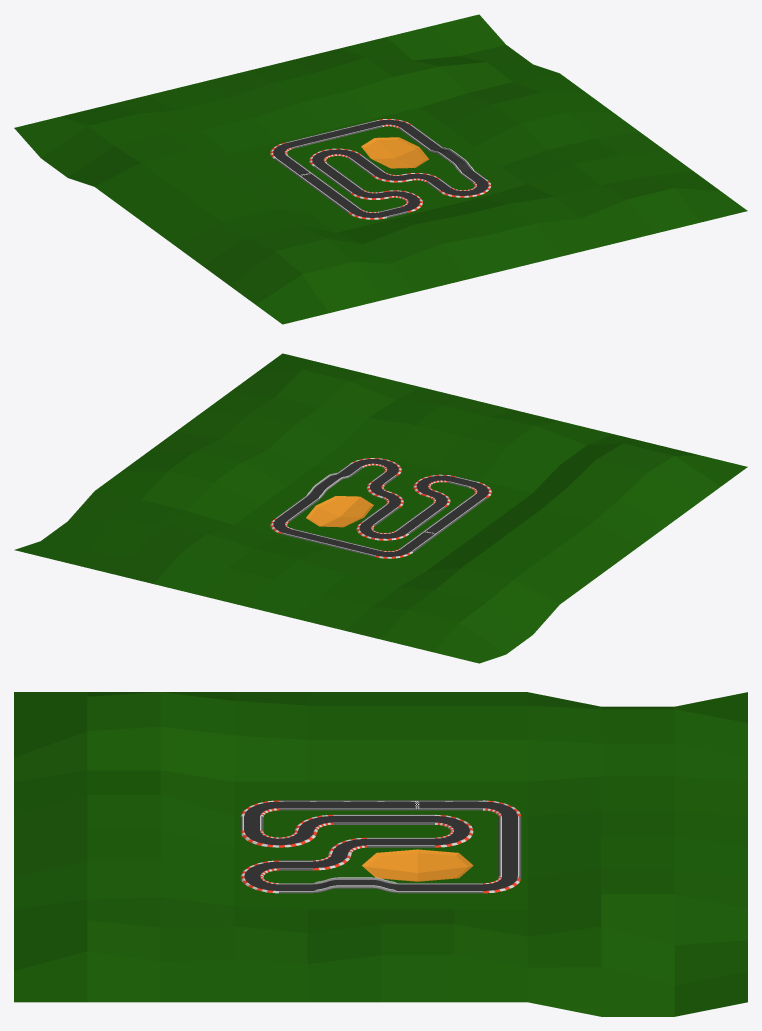
The model's file is Circuit_02.fbx.
3 renders of one model, top to bottom at view 1: azimuth 30°, elevation 25°; view 2: azimuth 150°, elevation 25°; view 3: azimuth 270°, elevation 25°, orthographic. The views are drawn at different scales.
Parts seen in each view (by area): view 1: Plane001, Circuit; view 2: Plane001, Circuit; view 3: Plane001, Circuit.
Boxes of the visible parts, left/top/right/bottom form: Plane001: left=14, top=14, right=747, bottom=324; Circuit: left=270, top=119, right=491, bottom=219; Plane001: left=14, top=353, right=747, bottom=663; Circuit: left=270, top=458, right=491, bottom=558; Plane001: left=14, top=692, right=747, bottom=1016; Circuit: left=240, top=800, right=521, bottom=893.
Bounding box in the file's own units: 16339 × 1119 × 16339.
